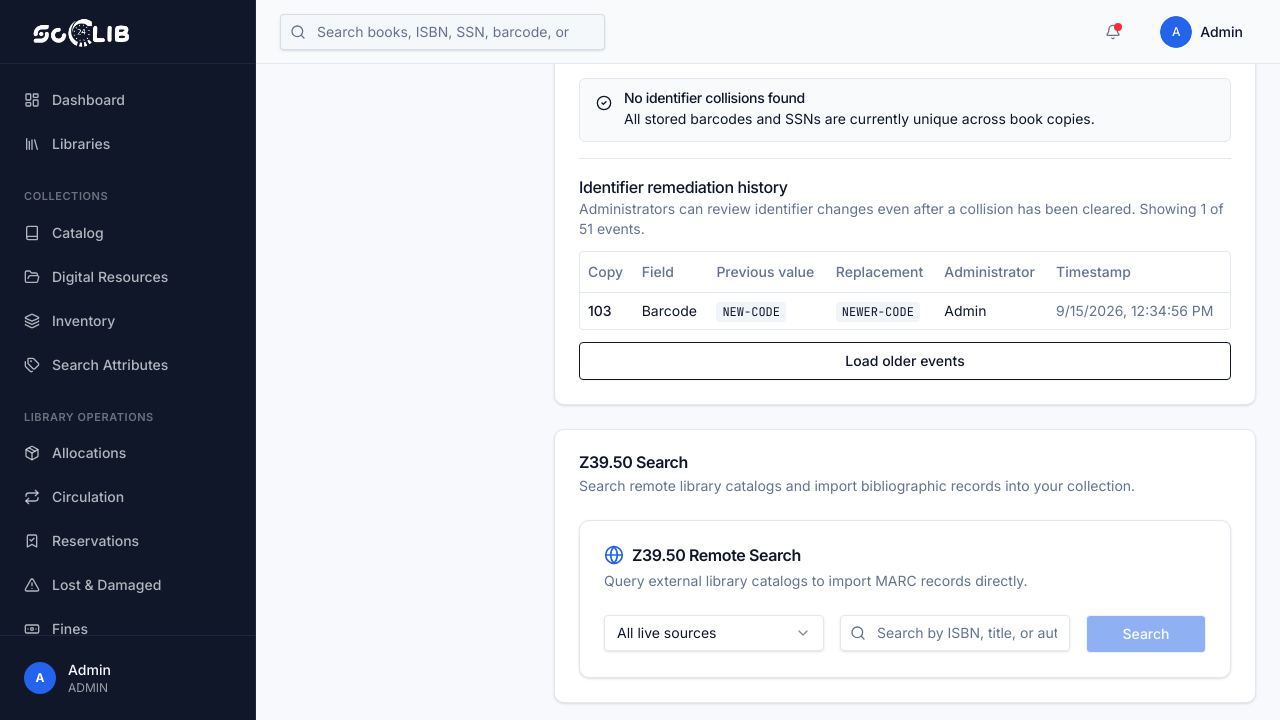
Test case: SettingsPage › loads older remediation events without replacing recent history
(page scrolled)
expect the row with test id "identifier-remediation-event-8" is shown: met, box [580,292,1230,328]
Click the button with test id "button-load-older-identifier-remediation-history".
click(905, 360)  # box [579,342,1231,380]
(page scrolled)
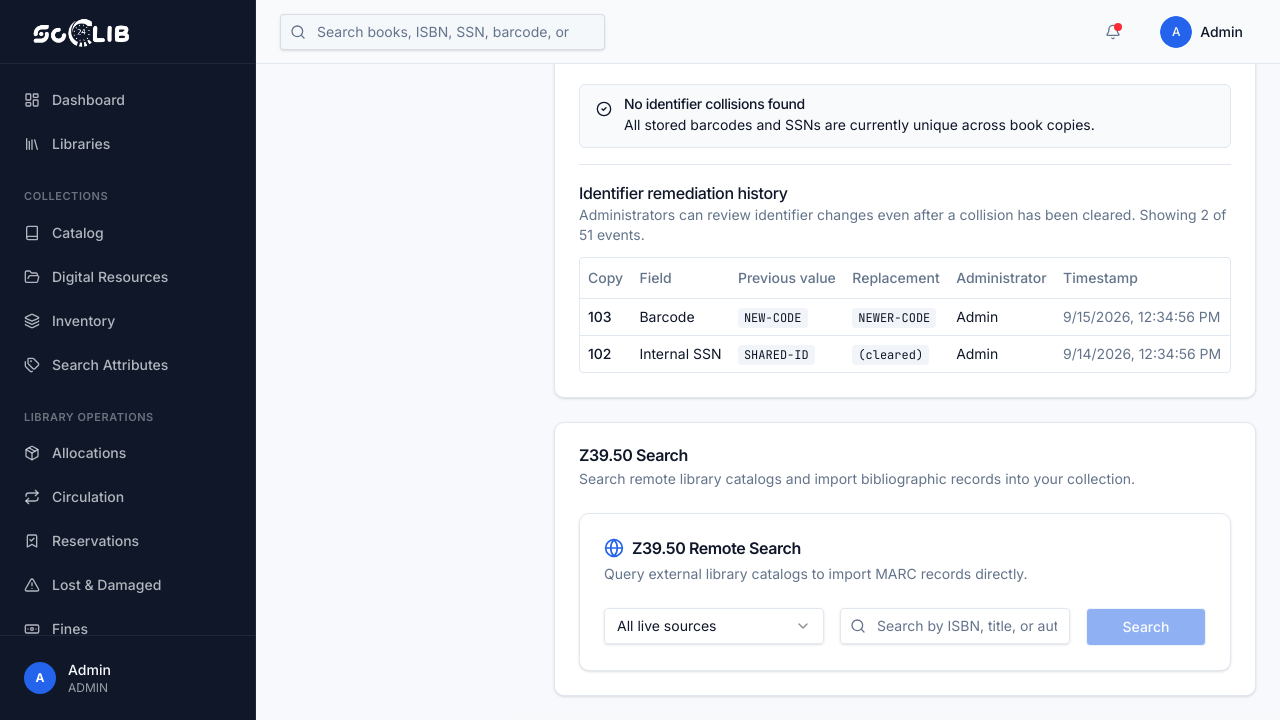
expect the row with test id "identifier-remediation-event-8" is shown: met, box [580,298,1230,335]
expect the row with test id "identifier-remediation-event-7" is shown: met, box [580,335,1230,372]
expect the button with test id "button-load-older-identifier-remediation-history" is gone: met
